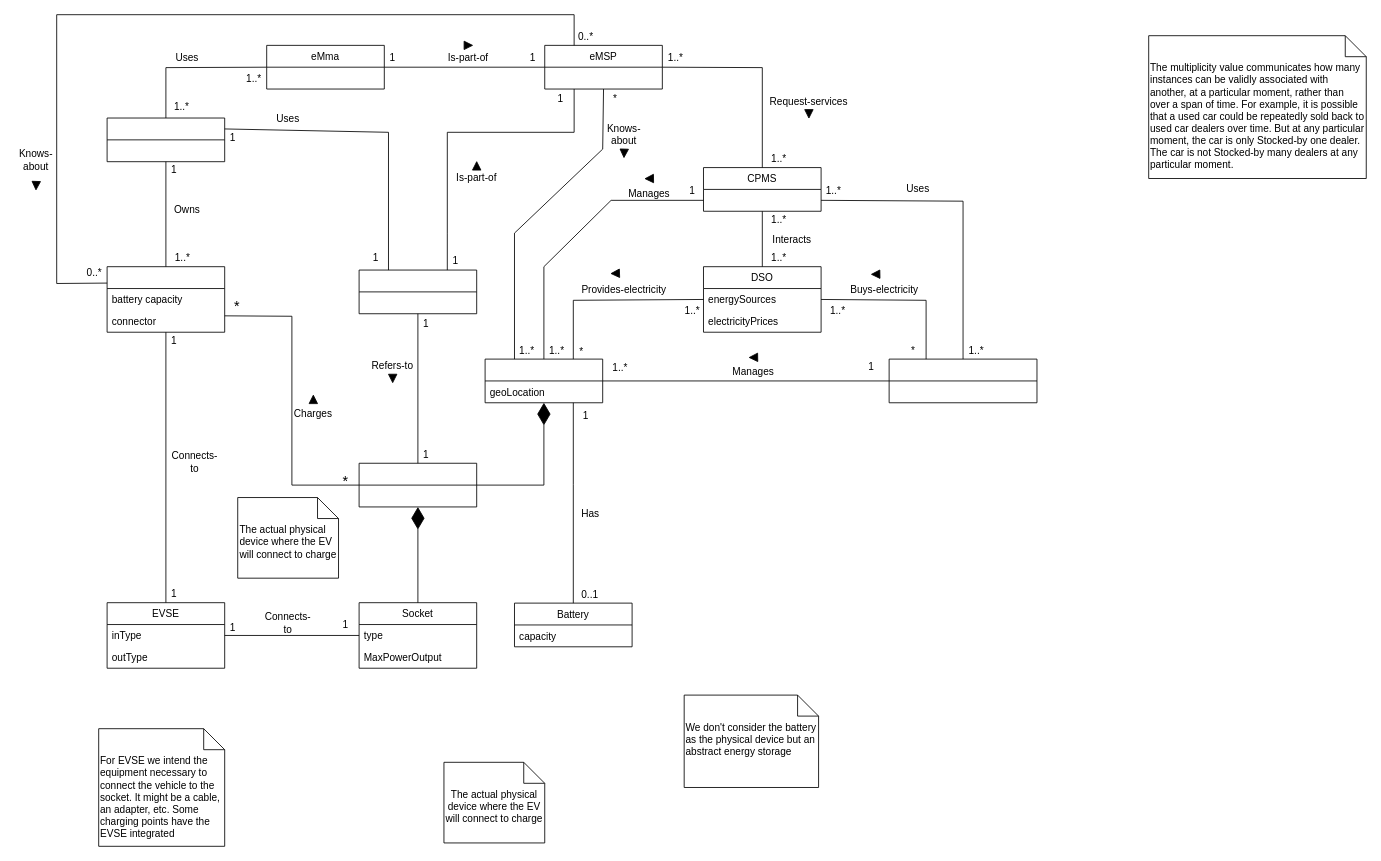
Image size: 1381x861. Some labels were removed from this diagram. The box of each missing label's shape, as (x1, y1, x2, y2) in pixels:
Charging Station: (484, 358, 603, 403)
ChargingPoint: (358, 462, 477, 507)
CPO: (888, 358, 1037, 403)
eMci: (358, 269, 477, 314)
EV: (106, 266, 225, 332)
EVD: (106, 117, 225, 162)
